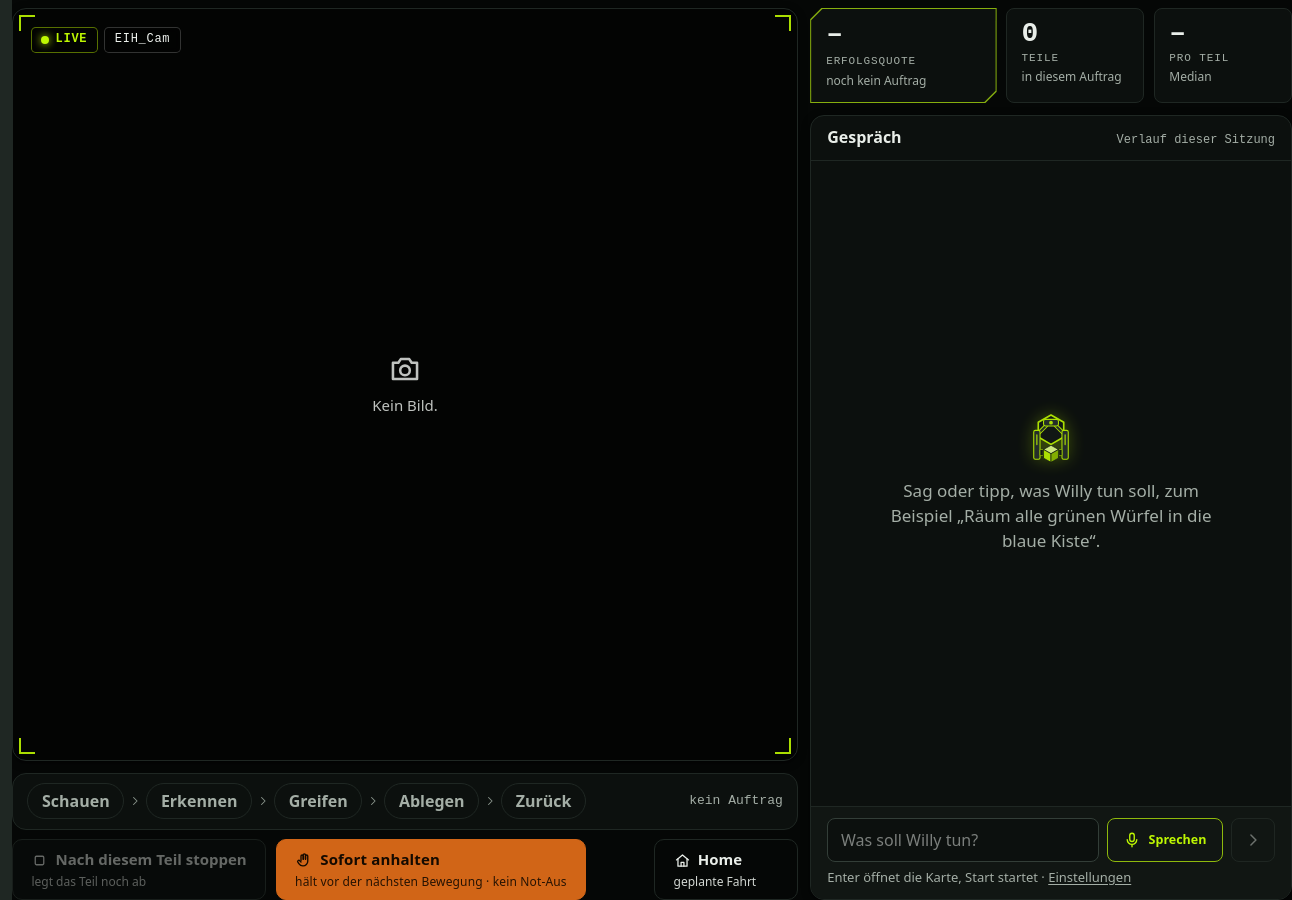
the card of a sort › says every rule it understood, and shows the further ones as rows under "Regeln"
This screenshot has width=1292, height=900.
(page scrolled)
Type "Grüne Teile in die gelbe Kiste, rote in die blaue" into the field named "Befehl an Willy".
click(963, 840); type("Grüne Teile in die gelbe Kiste, rote in die blaue")  # box [827, 818, 1099, 862]
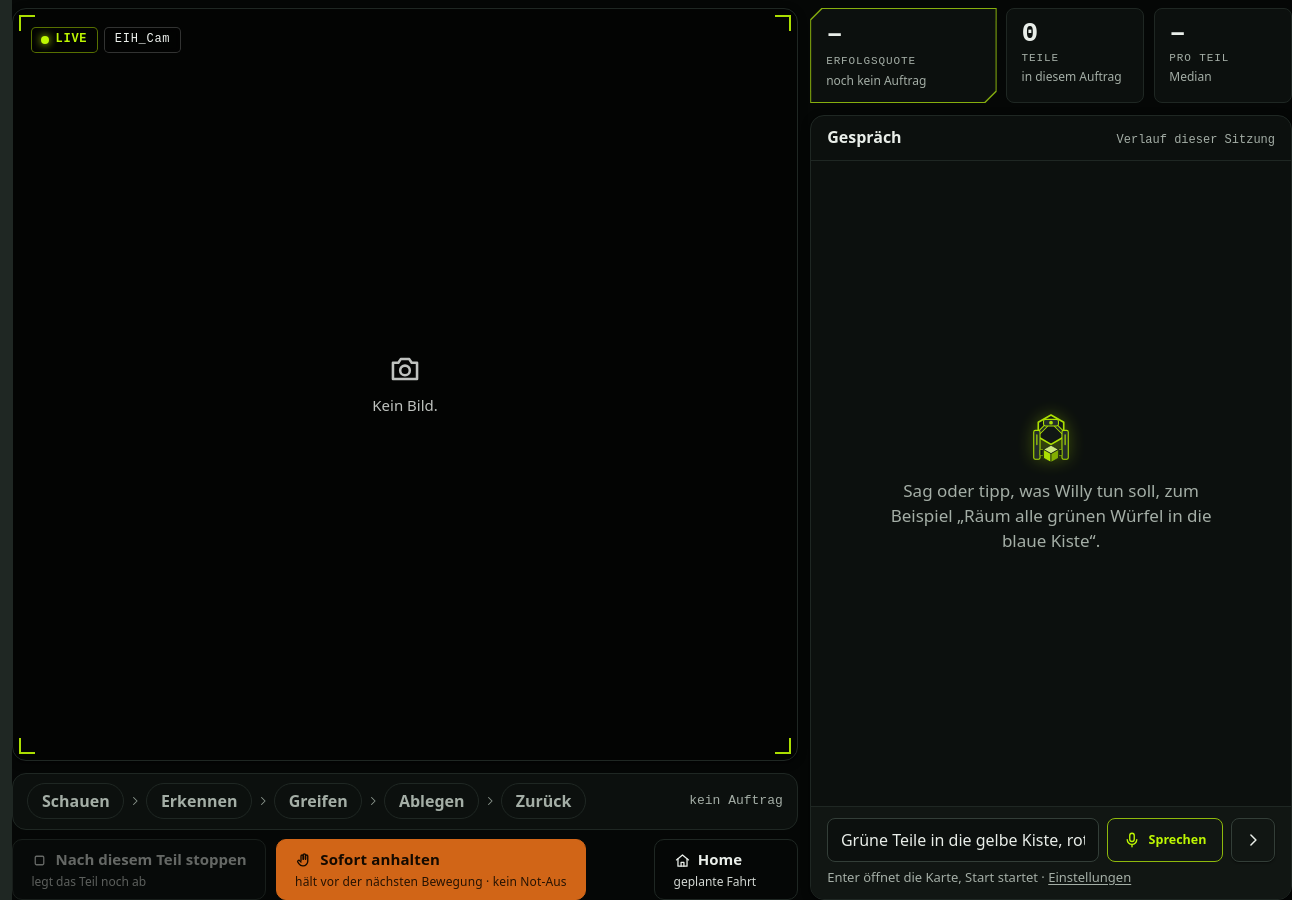
Press Enter in the field named "Befehl an Willy", box [827, 818, 1099, 862]
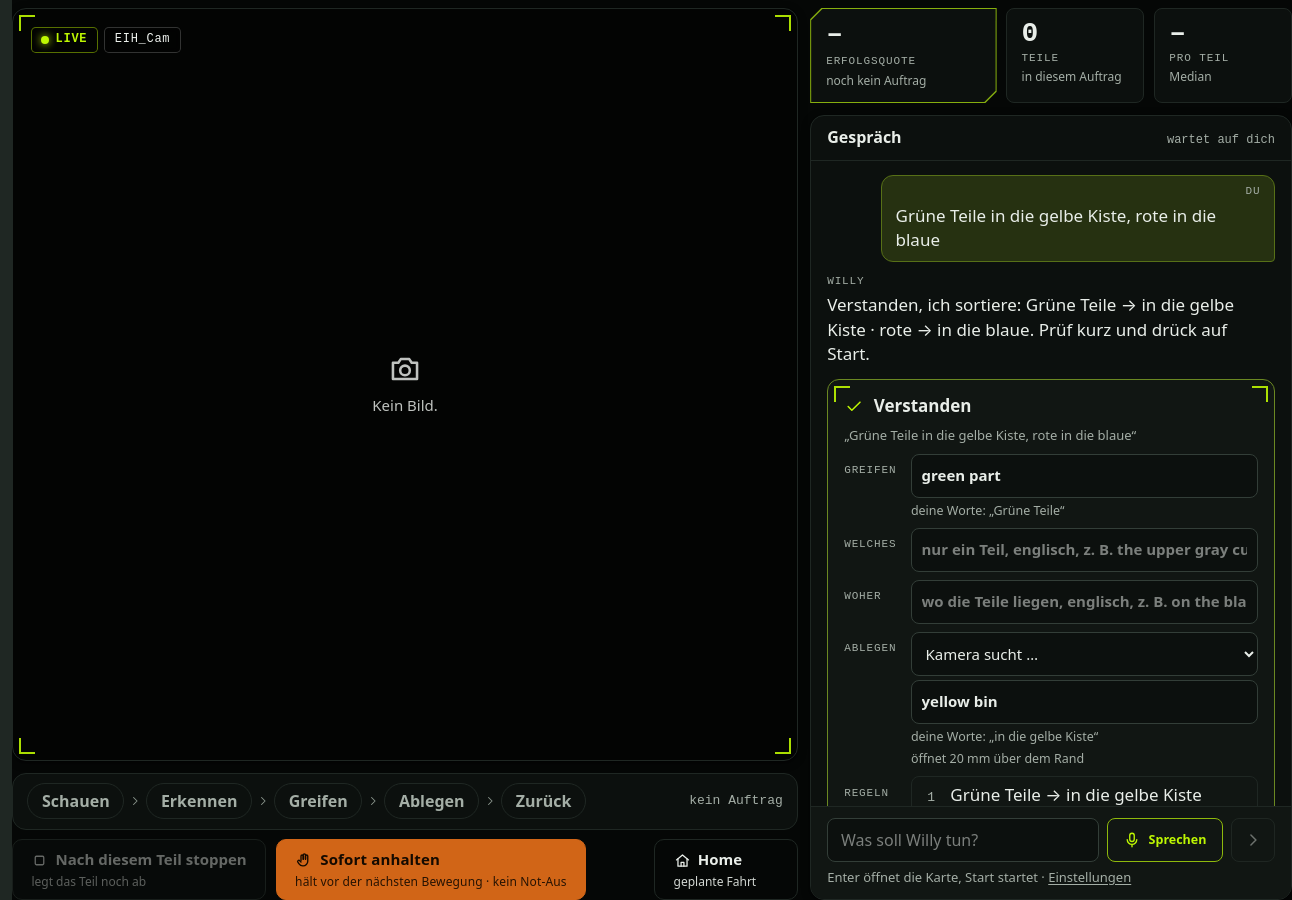
Expected: the text "Verstanden, ich sortiere: Grüne Teile → in die gelbe Kiste · rote → in die blaue. Prüf kurz und drück auf Start." is shown, [827, 293, 1234, 365]
Expected: the list item "1 Grüne Teile → in die gelbe Kiste Greifen und Ablegen oben" is shown, [950, 784, 1202, 806]
Expected: the field labelled "Greifen" holds "green part", [911, 454, 1258, 498]
